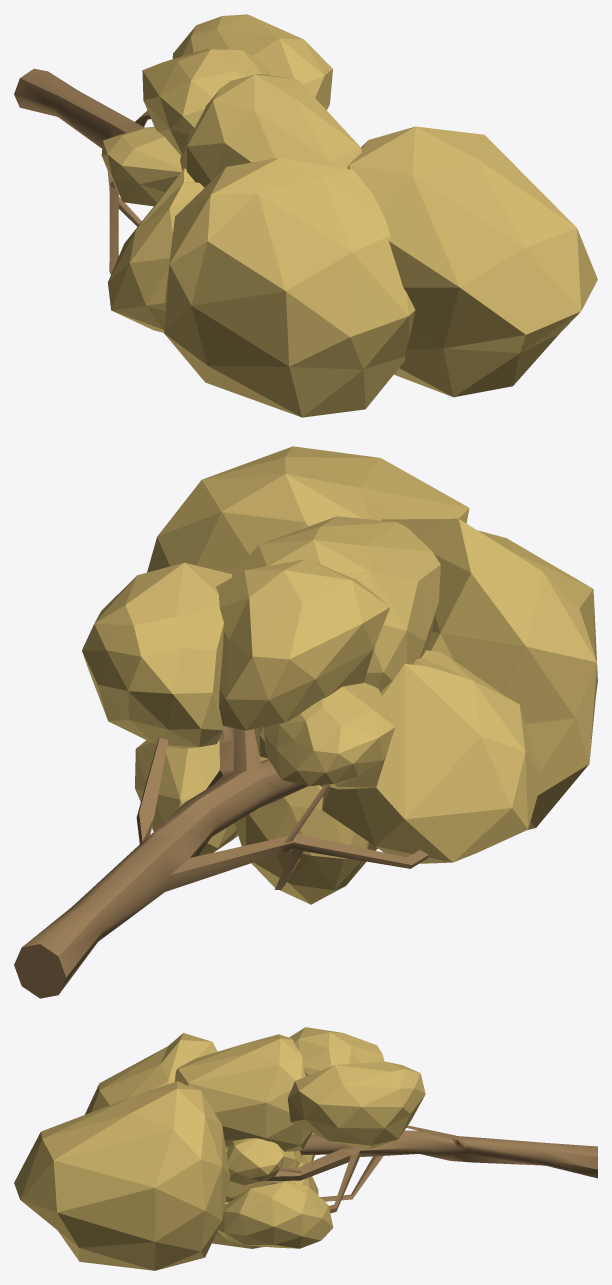
The model's file is tree-1-temperate.glb.
3 views of the same model, one above another, from view 1: azimuth 30°, elevation 25°; view 2: azimuth 150°, elevation 25°; view 3: azimuth 270°, elevation 25° (orthographic). The views are drawn at different scales.
Parts seen in each view (by area): view 1: Tree_0; view 2: Tree_0; view 3: Tree_0.
Boxes of the visible parts, bbox=[...] form: Tree_0: bbox=[14, 14, 597, 417]; Tree_0: bbox=[14, 446, 597, 998]; Tree_0: bbox=[14, 1027, 597, 1270].
Size of the model in its own units: 8.15 by 6.19 by 15.82.
